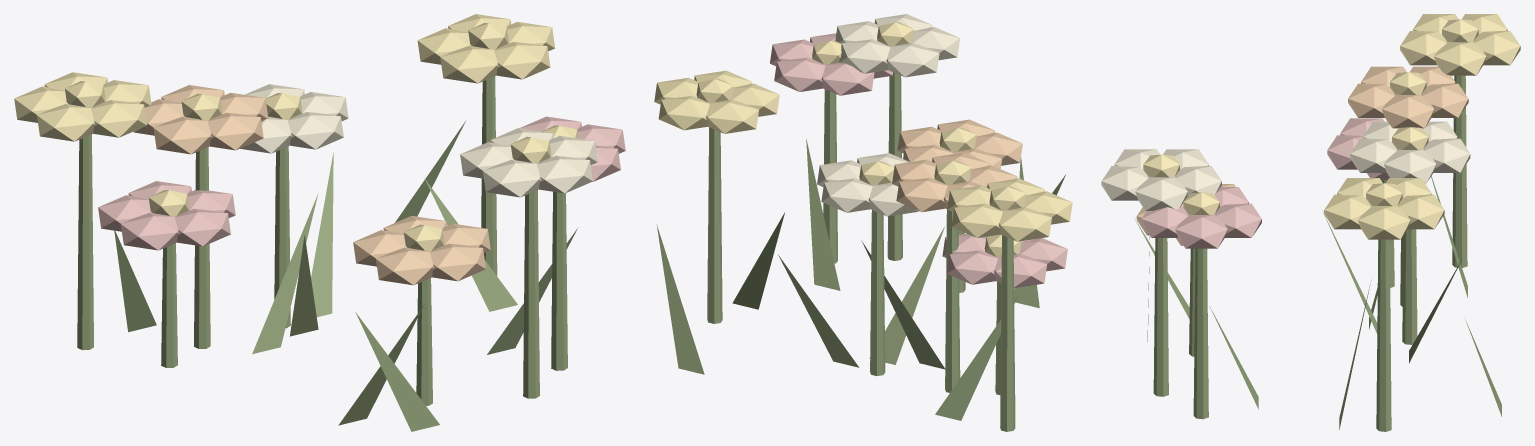
File: flower_cluster.fbx
The picture shows the model from 3 angles, left to right: view 1: azimuth 30°, elevation 25°; view 2: azimuth 150°, elevation 25°; view 3: azimuth 270°, elevation 25°; orthographic projection. The views are drawn at different scales.
Parts seen in each view (by area): view 1: flower_cluster_geometry; view 2: flower_cluster_geometry; view 3: flower_cluster_geometry.
Boxes of the visible parts, bbox=[...] form: flower_cluster_geometry: bbox=[14, 14, 625, 431]; flower_cluster_geometry: bbox=[654, 14, 1072, 431]; flower_cluster_geometry: bbox=[1101, 14, 1520, 431].
Bounding box in the file's own units: 0.8372 × 0.4396 × 0.6798.
